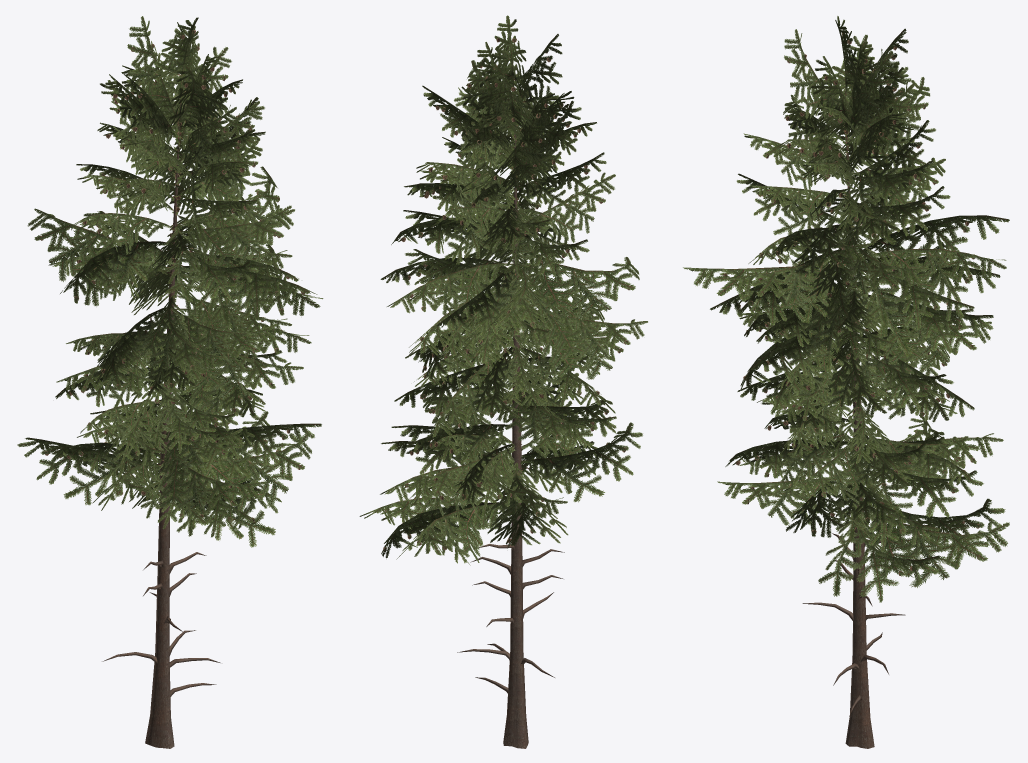
The model's file is Pinus_Sylvestris_Autumn_Adult.glb.
3 views of the same model, side by side, from view 1: azimuth 30°, elevation 25°; view 2: azimuth 150°, elevation 25°; view 3: azimuth 270°, elevation 25° (orthographic). The views are drawn at different scales.
Parts seen in each view (by area): view 1: Pinus_Sylvestris_Autumn_Adult__LOD3; view 2: Pinus_Sylvestris_Autumn_Adult__LOD3; view 3: Pinus_Sylvestris_Autumn_Adult__LOD3.
Part boxes in pixels (x1,y1,x2,y2): Pinus_Sylvestris_Autumn_Adult__LOD3: [17, 16, 323, 748]; Pinus_Sylvestris_Autumn_Adult__LOD3: [359, 15, 647, 748]; Pinus_Sylvestris_Autumn_Adult__LOD3: [683, 16, 1009, 748].
Bounding box in the file's own units: 9.86 × 27.29 × 11.26.
Materials: 3 (3 with a texture image).
